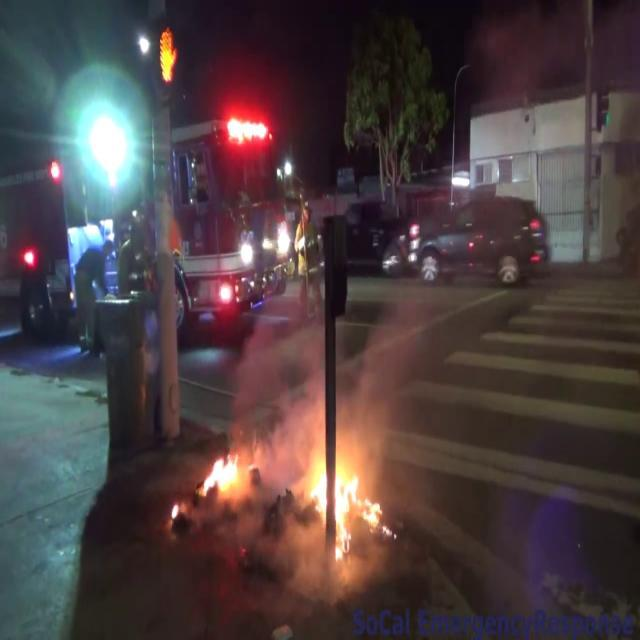Fire: (302, 428, 382, 555), (198, 442, 256, 504)
Smoke: (231, 274, 330, 440), (350, 279, 442, 456)
